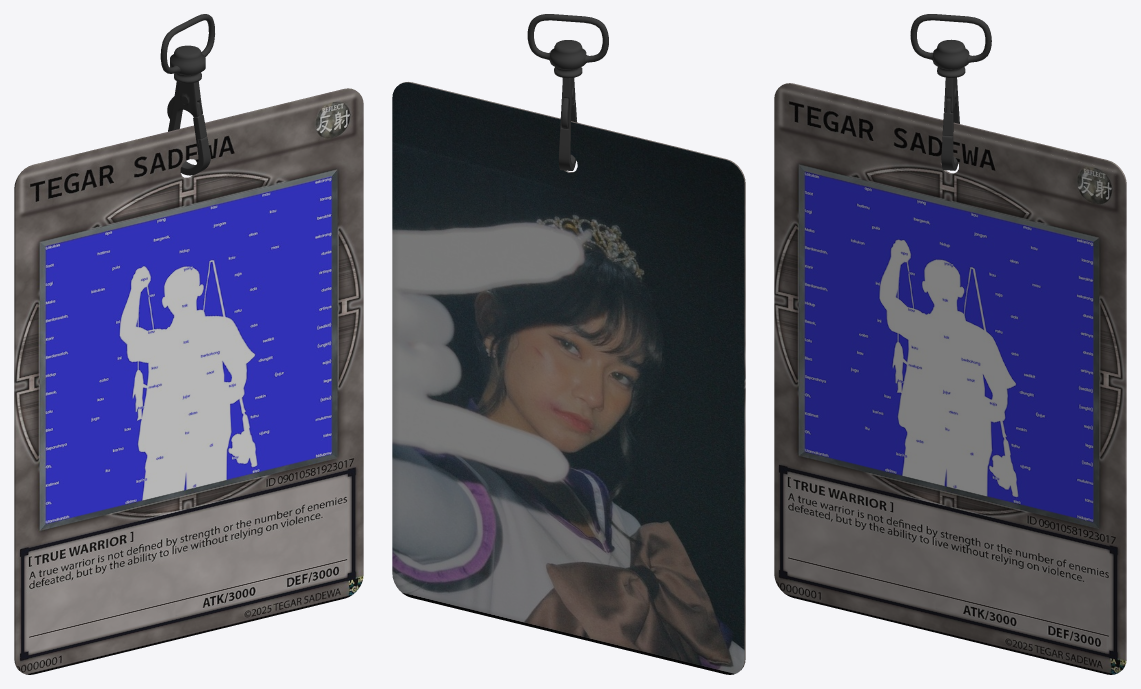
Rendered from tag.glb.
3 views of the same model, side by side, from view 1: azimuth 30°, elevation 25°; view 2: azimuth 150°, elevation 25°; view 3: azimuth 330°, elevation 25° (orthographic).
Visible parts, largest first — view 1: card, clamp, clip; view 2: card, clip, clamp; view 3: card, clip, clamp.
Boxes of the visible parts, x1,y1,x2,y2 form: card: (14,88,363,674); clamp: (167,81,210,175); clip: (160,14,214,83); card: (392,82,745,674); clip: (527,14,608,78); clamp: (558,77,577,170); card: (774,83,1126,674); clip: (910,14,991,77); clamp: (941,77,959,170).
Bounding box in the file's own units: 0.7164 × 1.21 × 0.0903.
2 materials, 1 textured.
